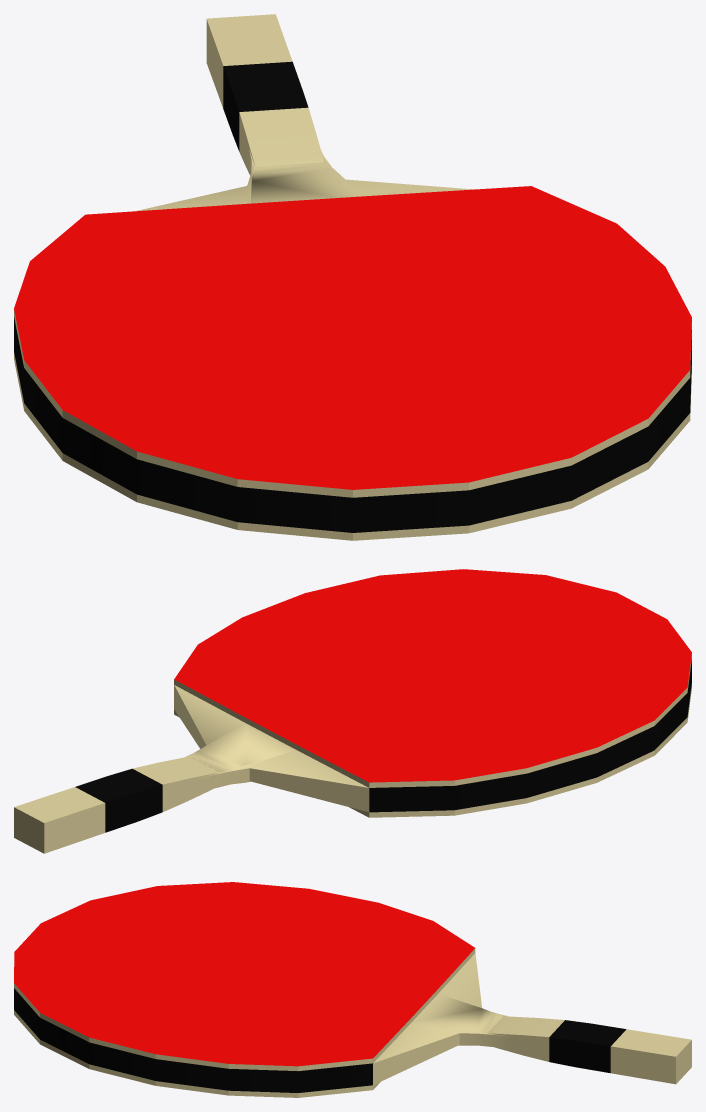
Rendered from Table tennis paddle.fbx.
3 renders of one model, top to bottom at view 1: azimuth 30°, elevation 25°; view 2: azimuth 150°, elevation 25°; view 3: azimuth 270°, elevation 25°, orthographic. The views are drawn at different scales.
Visible parts, largest first — view 1: node-0; view 2: node-0; view 3: node-0.
Part boxes in pixels (x1,y1,x2,y2): node-0: (14,14,691,540); node-0: (14,569,691,853); node-0: (14,882,691,1097).
Size of the model in its own units: 3.26e+07 by 2611263 by 5.07e+07.
